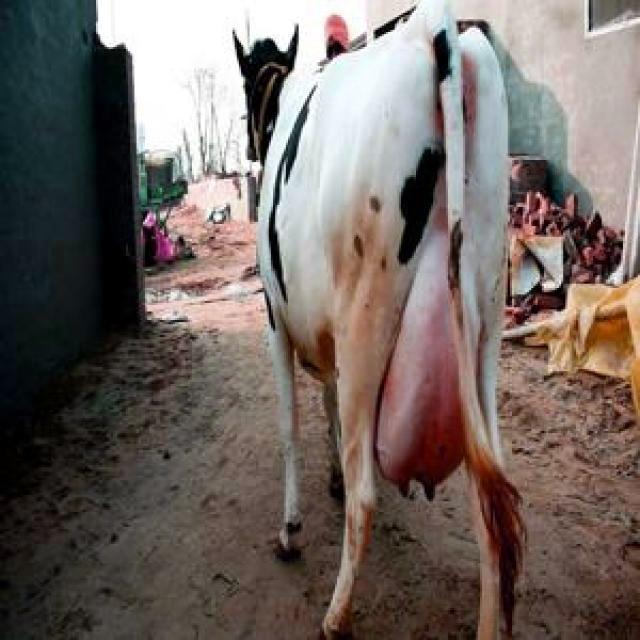cow: (235, 0, 525, 640)
